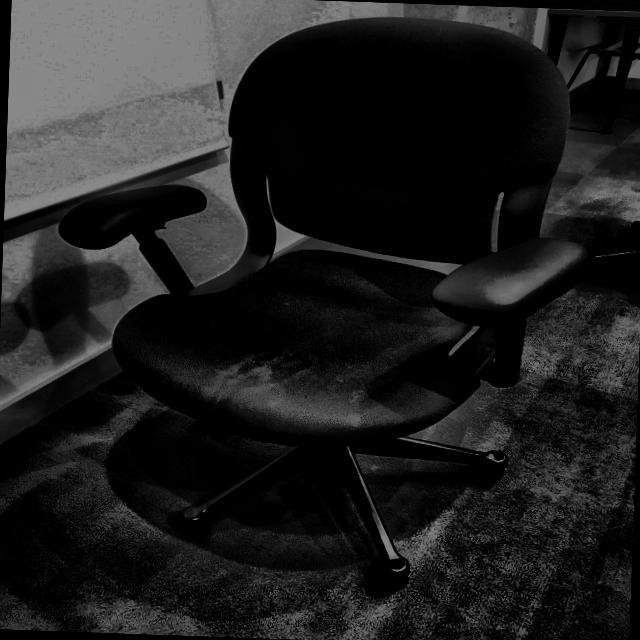chair: (46, 1, 607, 596)
